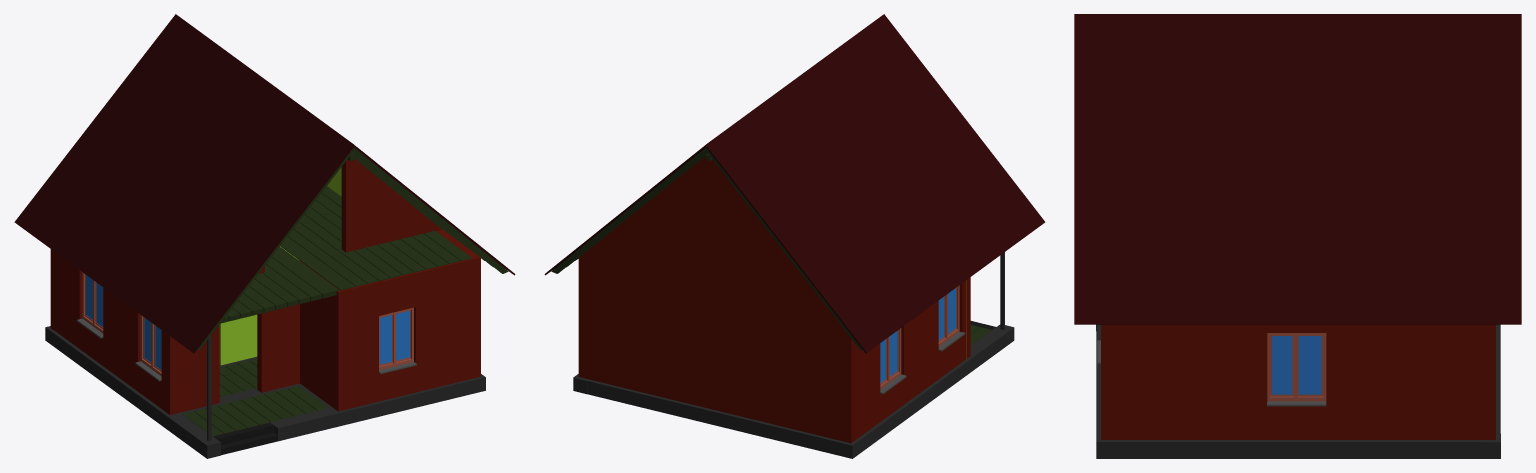
Rendered from House.obj.
The picture shows the model from 3 angles, left to right: view 1: azimuth 30°, elevation 25°; view 2: azimuth 150°, elevation 25°; view 3: azimuth 270°, elevation 25°; orthographic projection. The views are drawn at different scales.
Visible parts, largest first — view 1: Cube.022_Cube.029, Cube.005, Cube.035_Cube.050, Cube.003, Cube, Cube.031_Cube.045, Cube.016, Cube.006, Cube.034_Cube.049, Cube.008, Cube.013, window.001_Cube.021 (+10 smaller); view 2: Cube.022_Cube.029, Cube.028_Cube.043, Cube, Cube.012, Cube.013, Cube.024_Cube.034, window.003_Cube.001, window.002_Cube.023, Cube.002, Cube.023_Cube.030, Cube.018_Cube.036; view 3: Cube.018_Cube.036, Cube.002, Cube.011, window.000_Cube.022, Cube.012, Cube.008.
Boxes of the visible parts, x1,y1,x2,y2 form: Cube.022_Cube.029: (14,14,354,353); Cube.005: (337,254,480,411); Cube.035_Cube.050: (280,212,472,290); Cube.003: (165,304,299,414); Cube: (54,252,165,411); Cube.031_Cube.045: (259,158,441,273); Cube.016: (182,360,328,436); Cube.006: (280,246,344,411); Cube.034_Cube.049: (220,247,339,323); Cube.008: (270,374,485,441); Cube.013: (45,327,220,458); window.001_Cube.021: (379,307,416,374); Cube.022_Cube.029: (705,14,1045,353); Cube.028_Cube.043: (579,156,855,443); Cube: (855,280,966,439); Cube.012: (573,374,859,458); Cube.013: (839,324,1014,458); Cube.024_Cube.034: (551,147,707,273); window.003_Cube.001: (938,285,965,351); window.002_Cube.023: (880,328,906,394); Cube.002: (578,258,585,378); Cube.023_Cube.030: (707,150,862,350); Cube.018_Cube.036: (544,145,705,275); Cube.018_Cube.036: (1074,14,1521,324); Cube.002: (1101,324,1495,439); Cube.011: (1096,434,1500,458); window.000_Cube.022: (1267,333,1326,406); Cube.012: (1481,324,1500,458); Cube.008: (1096,324,1115,441).
Size of the model in its own units: 36.05 by 30.61 by 34.57.
